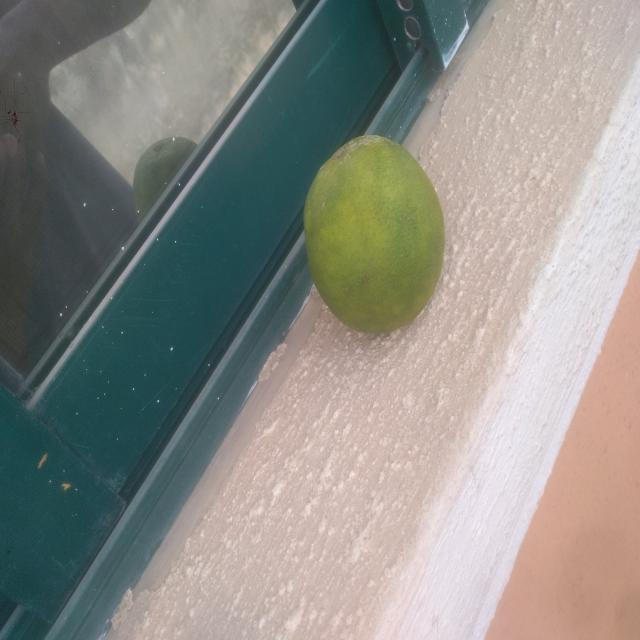Unripe: (295, 123, 451, 343)
